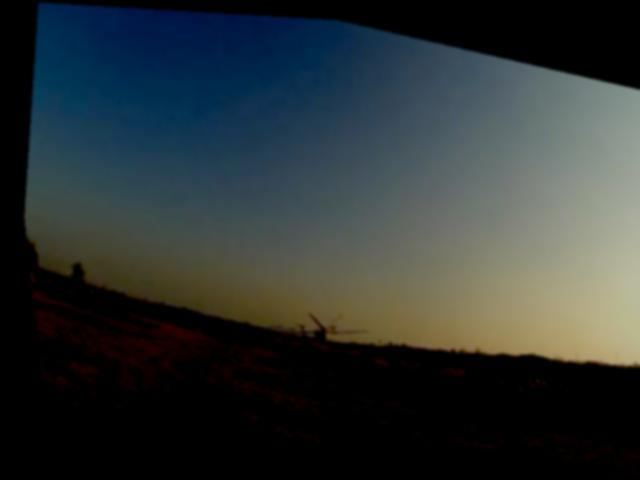uav: (251, 293, 373, 361)
